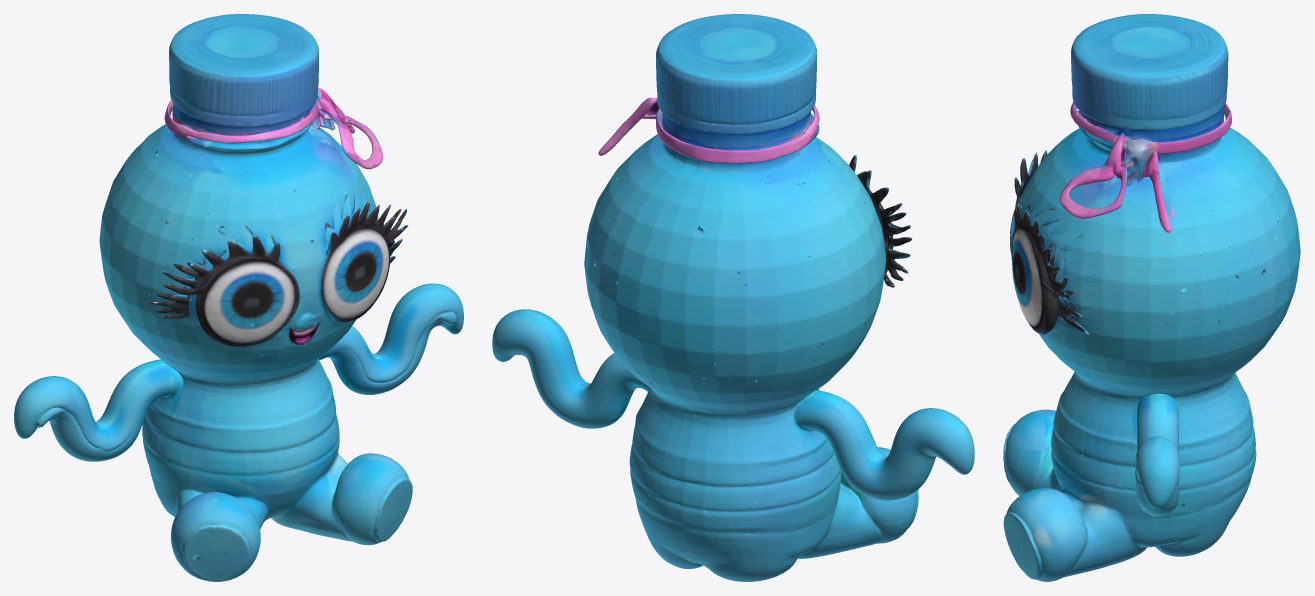
The model's file is botellytaazul.glb.
3 views of the same model, side by side, from view 1: azimuth 30°, elevation 25°; view 2: azimuth 150°, elevation 25°; view 3: azimuth 270°, elevation 25° (orthographic). The views are drawn at different scales.
Size of the model in its own units: 1.94 by 2 by 1.09.
Materials: 1 (1 with a texture image).
